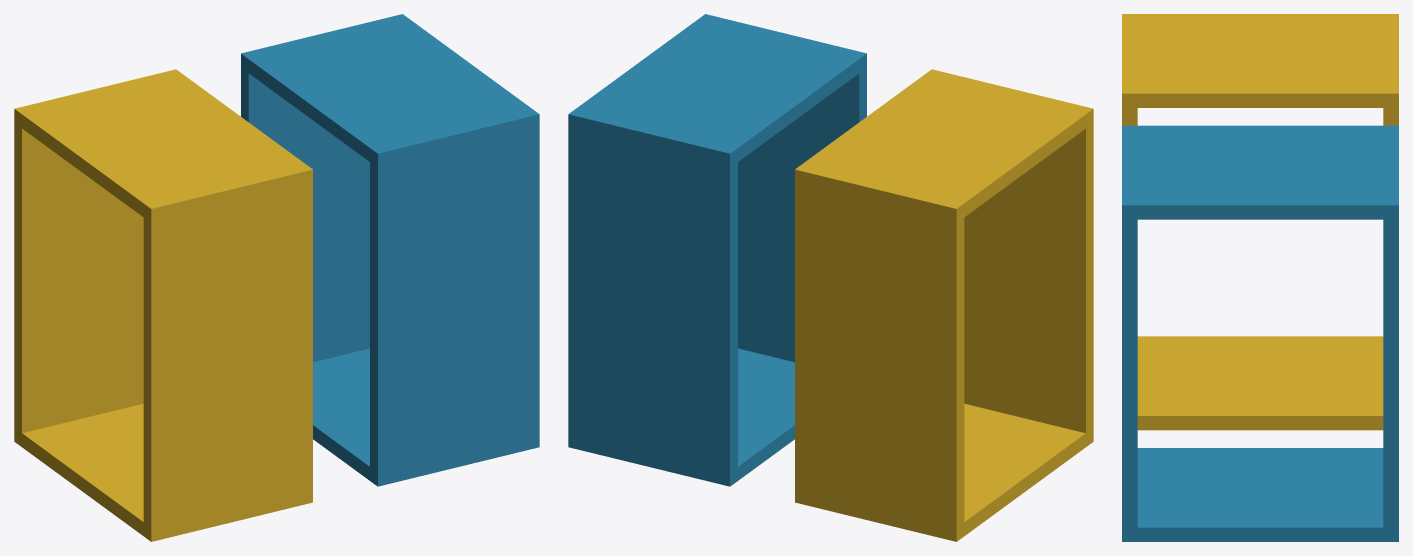
File: air_receiver_dryer_package_temperature.glb
3 views of the same model, side by side, from view 1: azimuth 30°, elevation 25°; view 2: azimuth 150°, elevation 25°; view 3: azimuth 270°, elevation 25° (orthographic).
Parts seen in each view (by area): view 1: temperature__front, temperature__back; view 2: temperature__back, temperature__front; view 3: temperature__back, temperature__front.
Boxes of the visible parts, bbox=[...] form: temperature__front: bbox=[114, 87, 539, 541]; temperature__back: bbox=[14, 14, 501, 514]; temperature__back: bbox=[568, 41, 1056, 541]; temperature__front: bbox=[668, 14, 1093, 468]; temperature__back: bbox=[1197, 14, 1398, 541]; temperature__front: bbox=[1122, 14, 1197, 541].
Size of the model in its own units: 0.72 by 0.59 by 0.44.
